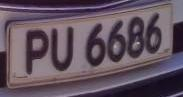6: (83, 19, 109, 71), (105, 16, 128, 68), (143, 12, 165, 59)
8: (125, 15, 148, 63)
P: (23, 24, 52, 79)
U: (49, 23, 77, 74)
